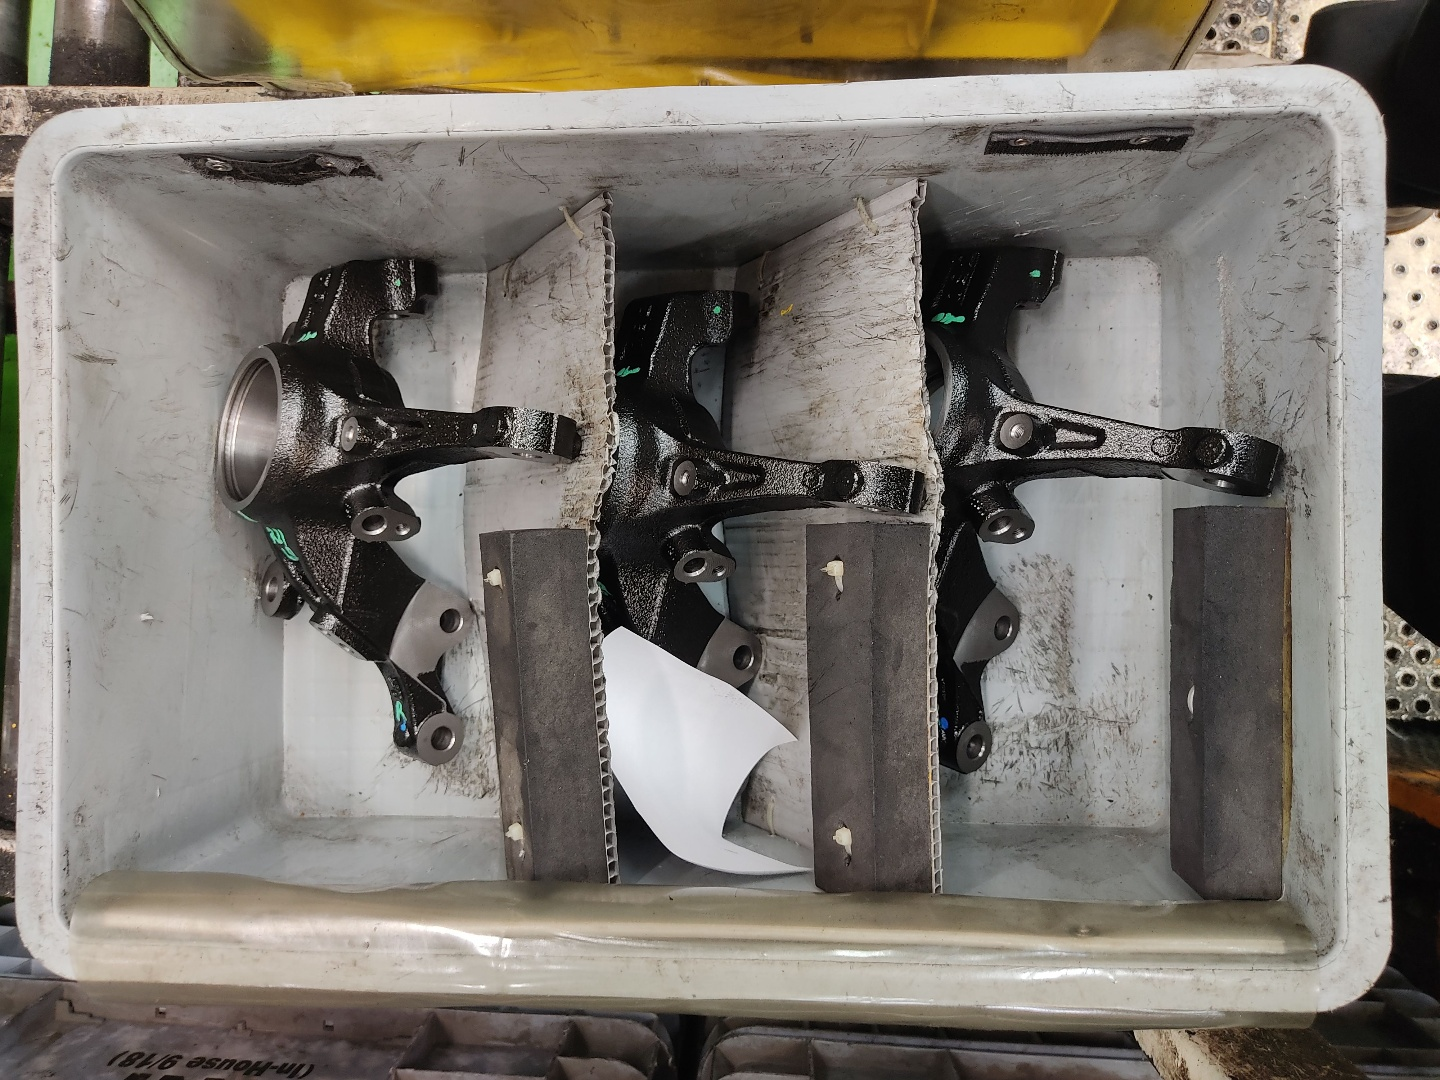abs-rh: (910, 233, 1293, 788), (204, 246, 587, 773), (605, 275, 925, 839)
